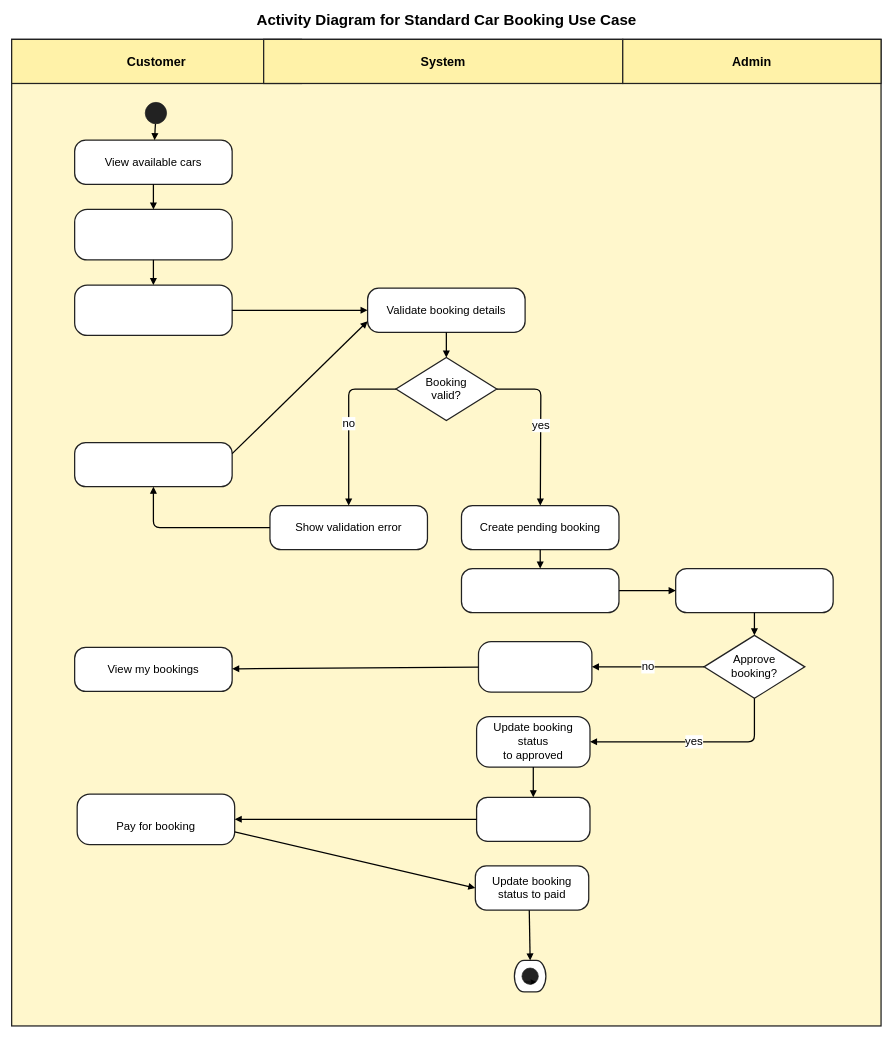
Image size: 892x1037. Some labels were removed from this diagram. Each missing label, with the centre of its shape:
"Choose pickup location and insurance" belongs at [153,310].
"Review pending booking" belongs at [754,590].
"Revise booking input" belongs at [153,464].
"Select car and rental dates" belongs at [153,234].
"Set car unavailable" belongs at [533,819].
"Show booking submitted" belongs at [540,590].
"Update booking status to rejected" belongs at [535,666].
